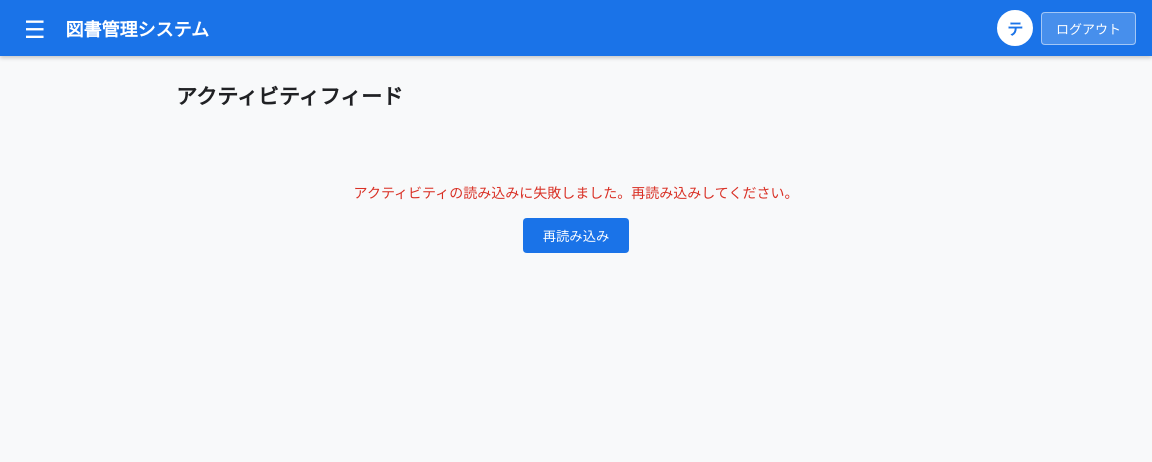
Test: ActivityFeedPage › retries fetching when reload button clicked
This screenshot has width=1152, height=462.
Click the button "再読み込み" at (576, 236), box [523,218,629,253]
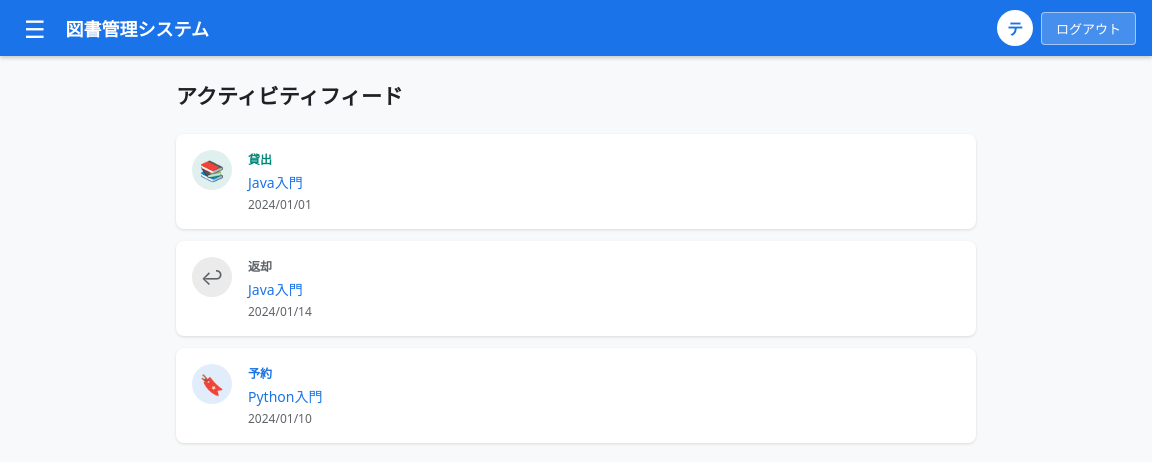
Result: the 1st link "Java入門" is shown at [248,173,303,192]
